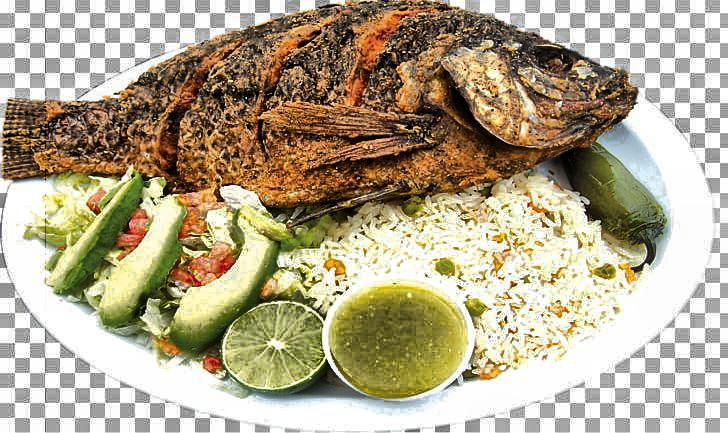fish: (10, 26, 644, 194)
